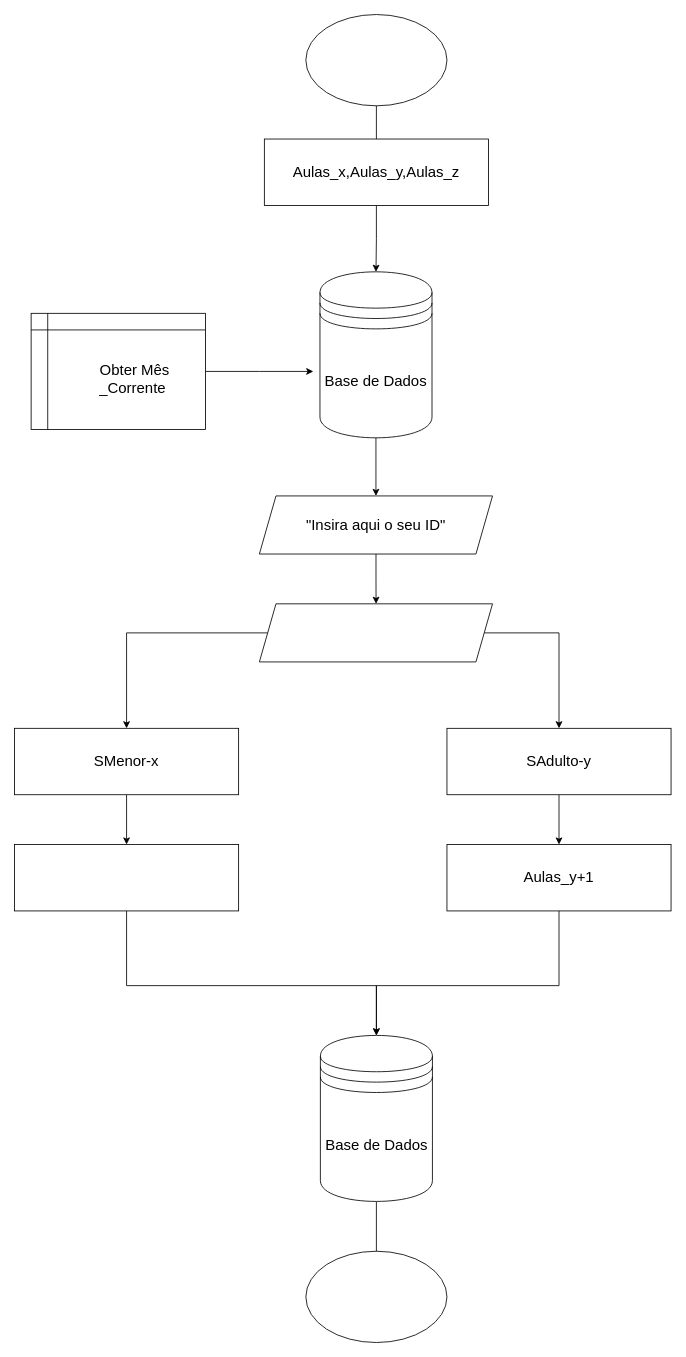
This 686x1357 diagram has some shape labels left out. Each missing label, with the box of its shape:
Aulas_x+1: (14, 844, 239, 911)
FIM: (305, 1250, 447, 1343)
Início: (305, 14, 447, 106)
Ler SMenor-x,SAdulto-y, SSenior-z: (259, 603, 493, 662)
